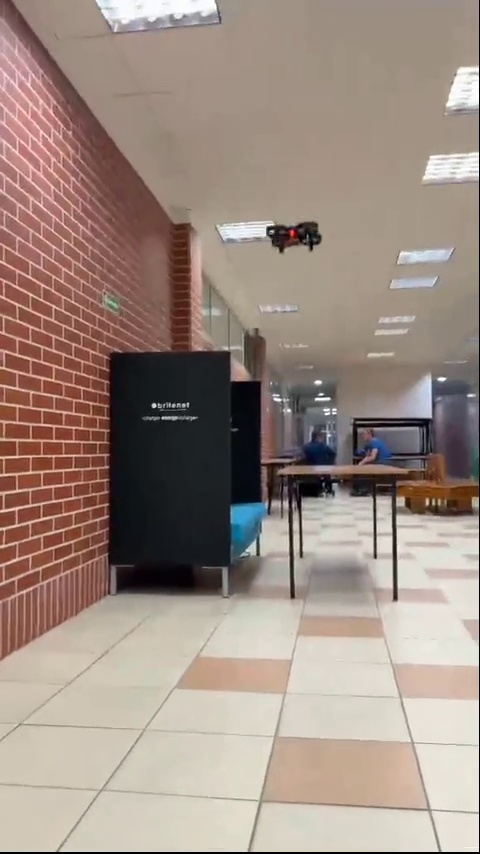drone: (267, 224, 319, 258)
no vest: (343, 419, 380, 463), (301, 419, 334, 467)
